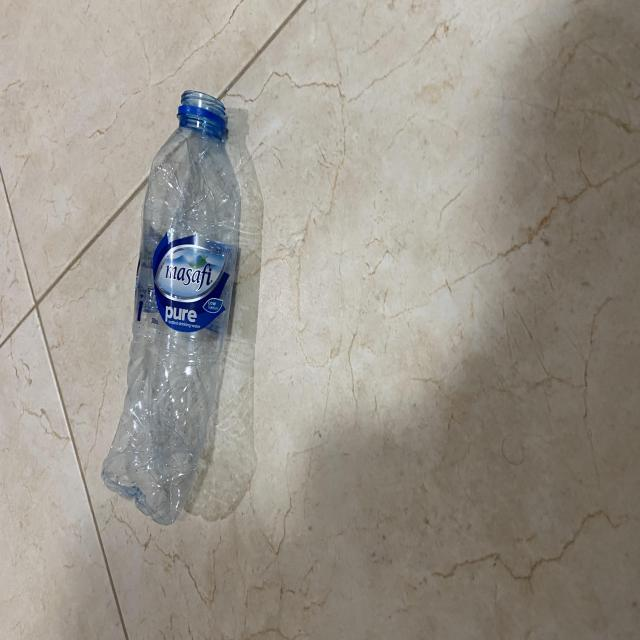plastic: (100, 80, 244, 525)
